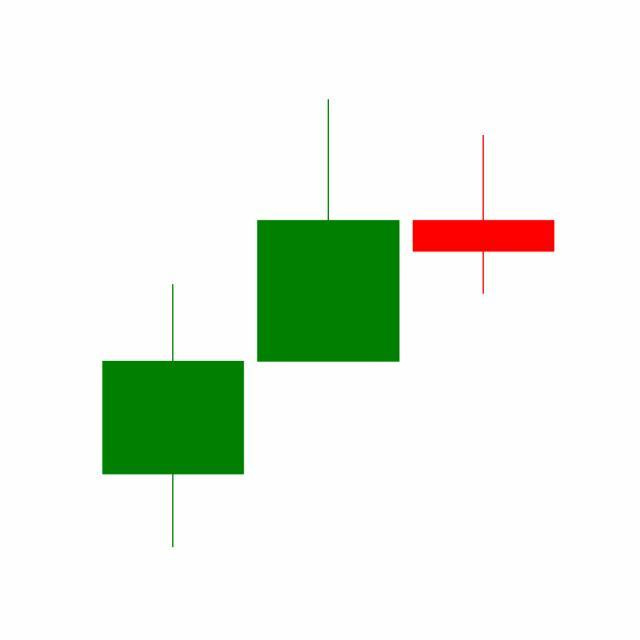Spinning Top: (406, 133, 562, 296)
